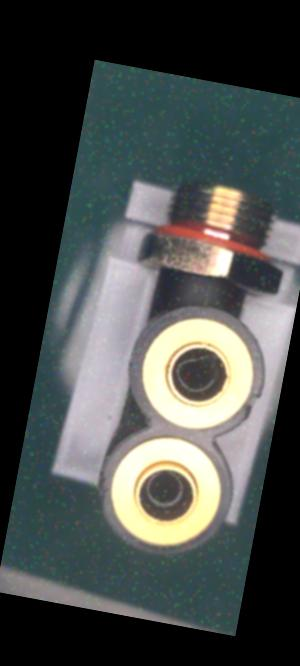bump: (92, 466, 118, 508), (242, 383, 265, 420)
off-centered: (166, 345, 227, 400)
white mark: (185, 282, 201, 297)
